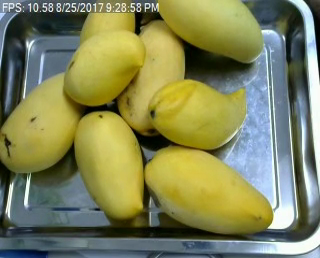Mango: (144, 144, 273, 234), (0, 69, 92, 173), (117, 19, 185, 136), (75, 111, 144, 220), (148, 78, 247, 149), (157, 0, 263, 63), (63, 29, 144, 107), (80, 0, 136, 57)
